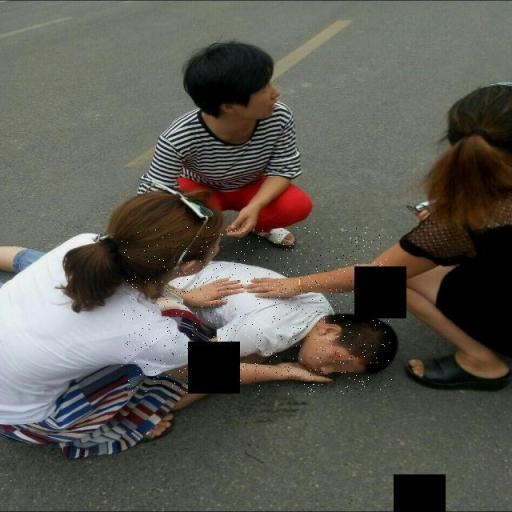Fall: (122, 227, 393, 395)
